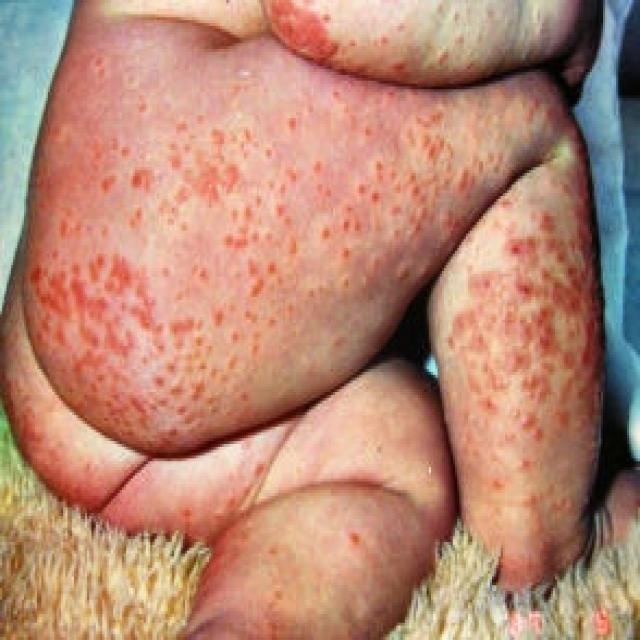Warts-Molluscum-and-other-Viral-Infections: (54, 61, 626, 499)
